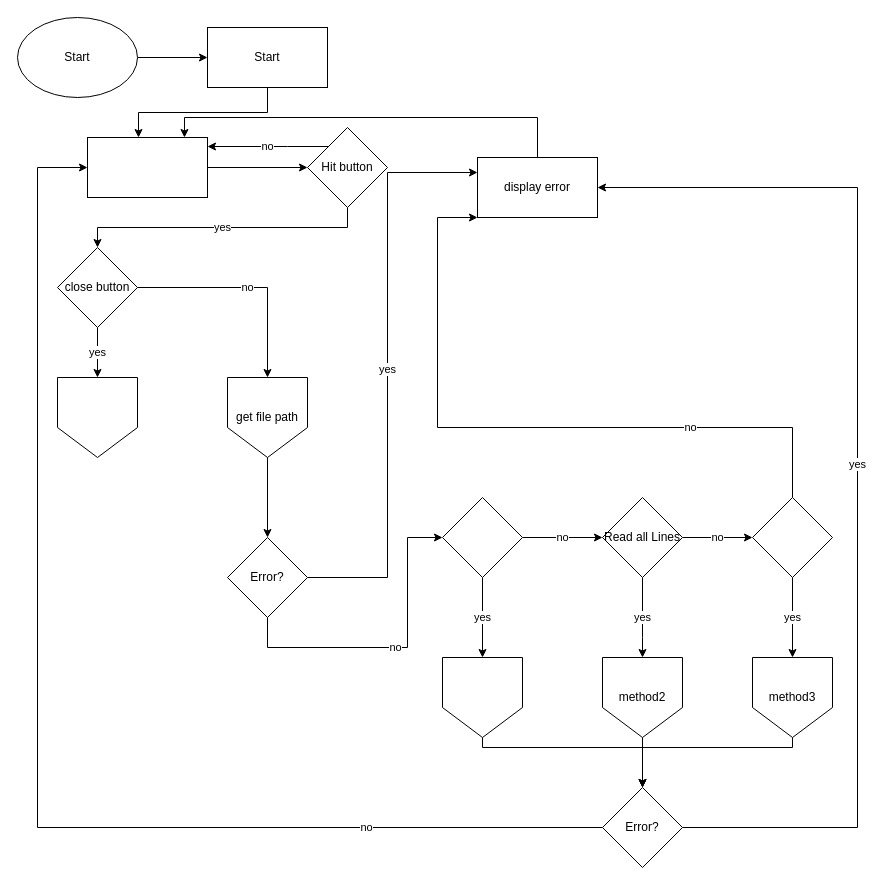
Some shapes in this 883 by 885 pixel diagram are drawn without their labels. Each missing label, with the centre of its shape:
close: point 97,417
Display Screen: point 147,167
method1: point 482,697
Read all Text: point 482,537
Stream Reader: point 792,537
